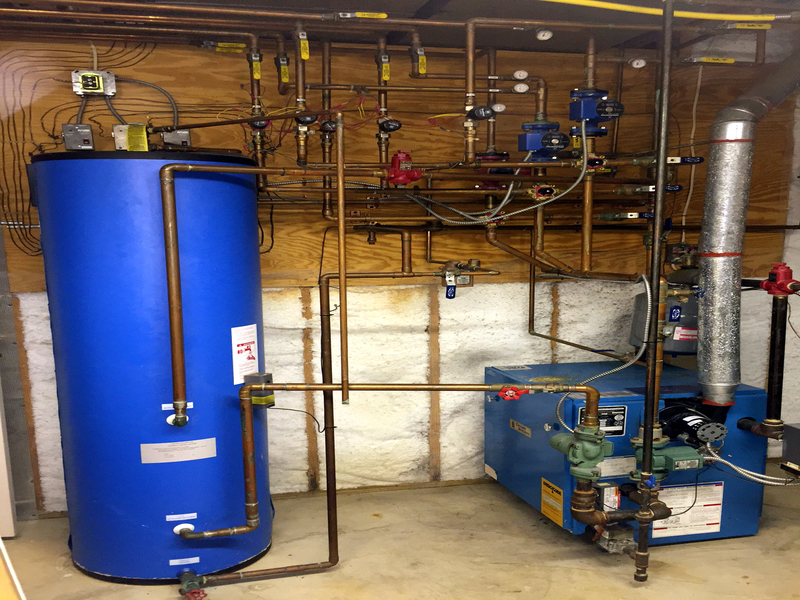valve: (325, 6, 394, 27), (241, 40, 267, 90), (404, 39, 434, 82), (290, 19, 315, 66), (679, 52, 748, 69), (370, 44, 398, 85), (712, 20, 779, 36), (271, 50, 295, 93), (189, 34, 250, 50), (568, 126, 594, 162), (195, 42, 254, 57)
